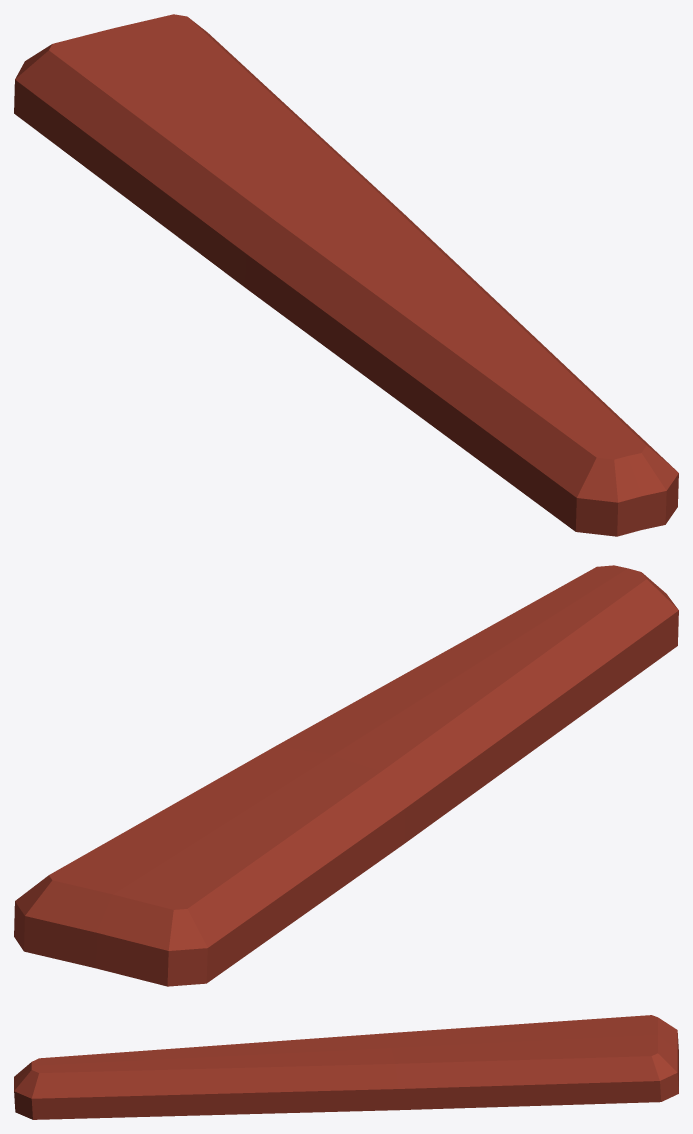
Rendered from Fighter_04_Detail_4_Red.fbx.
The picture shows the model from 3 angles, top to bottom: view 1: azimuth 30°, elevation 25°; view 2: azimuth 150°, elevation 25°; view 3: azimuth 270°, elevation 25°; orthographic projection. The views are drawn at different scales.
Parts seen in each view (by area): view 1: Fighter_04_Detail_4_Red; view 2: Fighter_04_Detail_4_Red; view 3: Fighter_04_Detail_4_Red.
Part boxes in pixels (x1,y1,x2,y2): Fighter_04_Detail_4_Red: (14, 14, 678, 536); Fighter_04_Detail_4_Red: (14, 565, 678, 986); Fighter_04_Detail_4_Red: (14, 1015, 678, 1119).
Size of the model in its own units: 58.91 by 33.79 by 289.
1 material, 1 textured.
